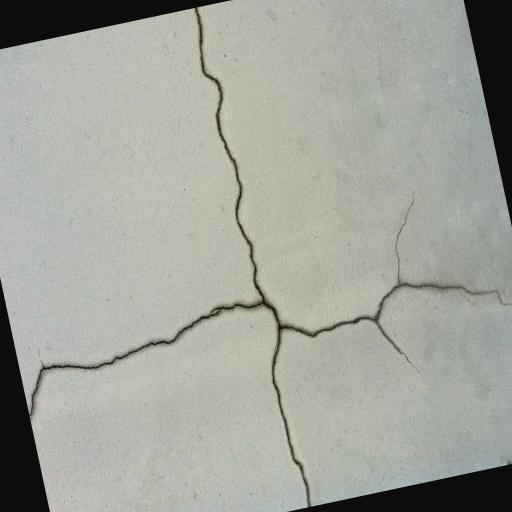spalling: (186, 14, 317, 500), (290, 187, 500, 370), (25, 295, 257, 430)
